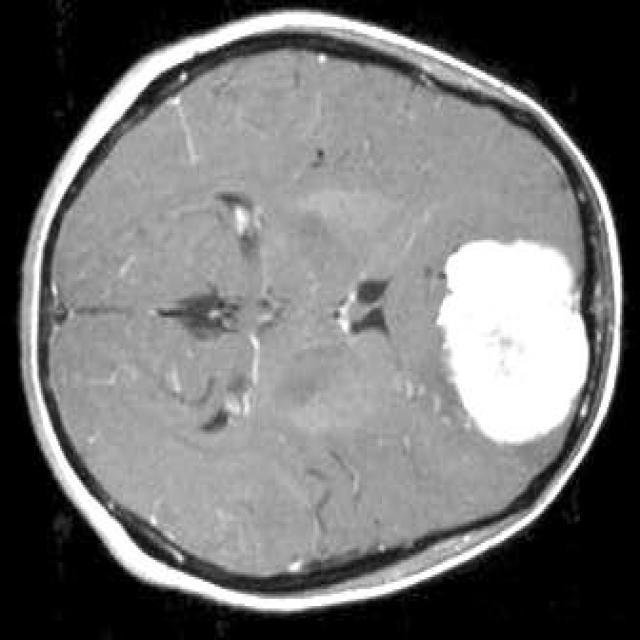tumor: (434, 238, 587, 446)
